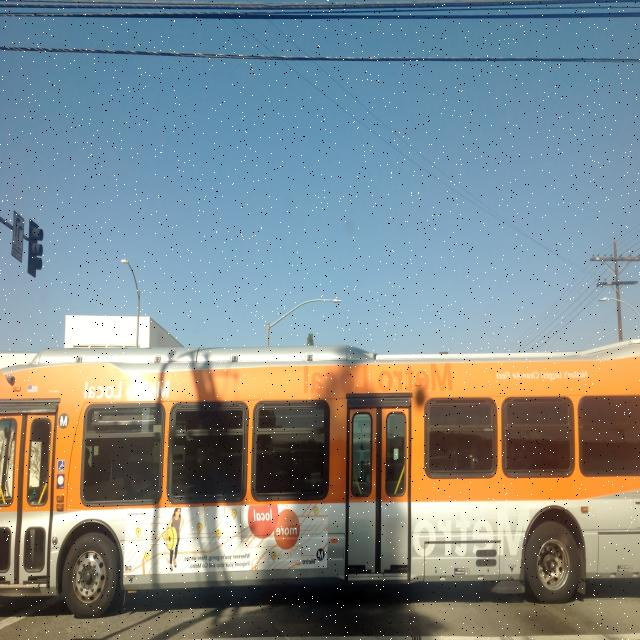Bus: (1, 344, 639, 610), (268, 297, 342, 348)
